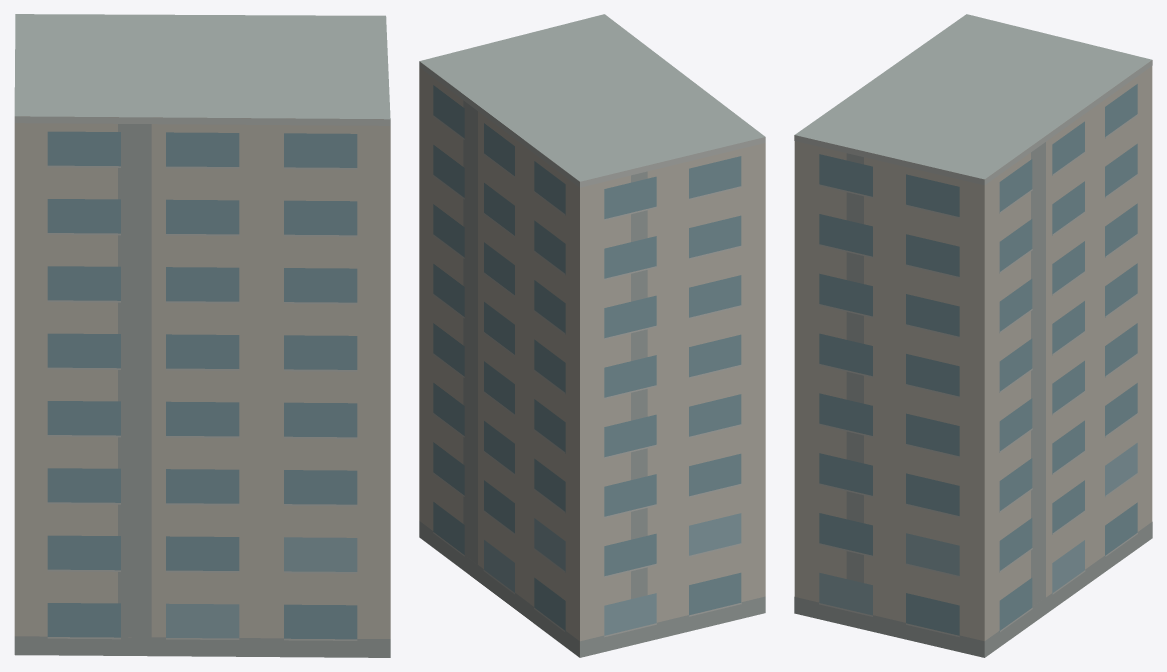
The model's file is survey-upis-32962761.glb.
The picture shows the model from 3 angles, left to right: view 1: azimuth 30°, elevation 25°; view 2: azimuth 150°, elevation 25°; view 3: azimuth 270°, elevation 25°; orthographic projection. The views are drawn at different scales.
Visible parts, largest first — view 1: survey-upis-32962761.tmp; view 2: survey-upis-32962761.tmp; view 3: survey-upis-32962761.tmp.
Boxes of the visible parts, x1,y1,x2,y2 form: survey-upis-32962761.tmp: (14,14,390,657); survey-upis-32962761.tmp: (419,14,765,657); survey-upis-32962761.tmp: (794,14,1152,657).
Size of the model in its own units: 14.47 by 19.5 by 13.23.
